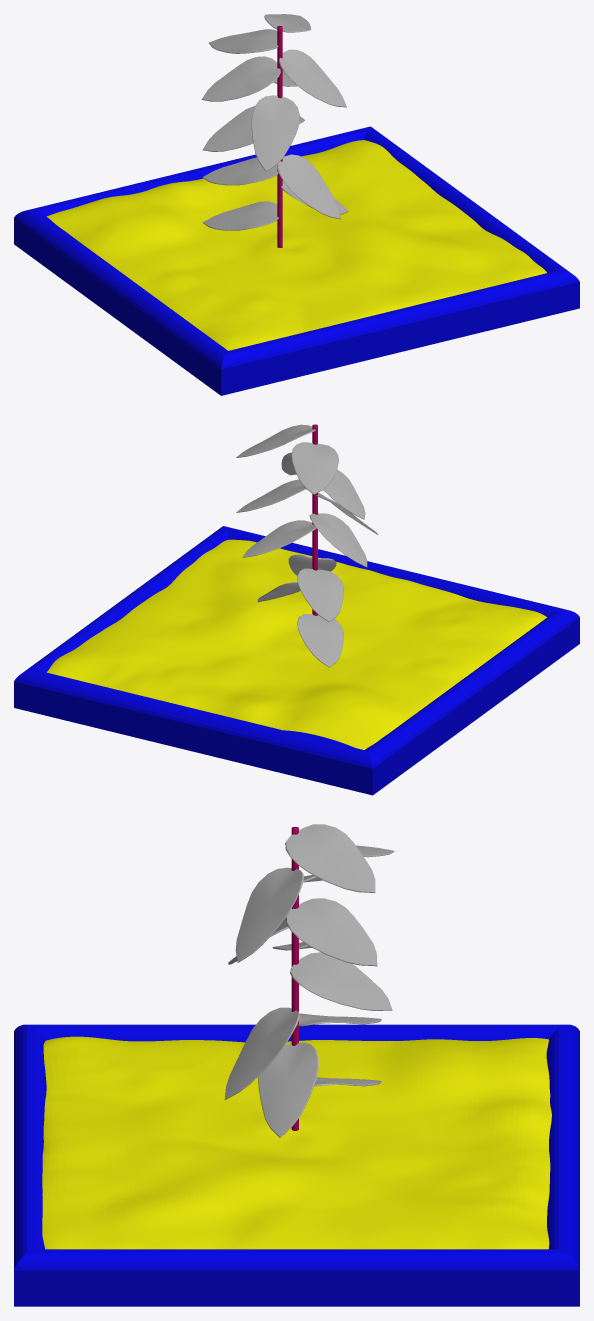
Rendered from Stage_2.fbx.
3 views of the same model, one above another, from view 1: azimuth 30°, elevation 25°; view 2: azimuth 150°, elevation 25°; view 3: azimuth 270°, elevation 25° (orthographic). The views are drawn at different scales.
Parts seen in each view (by area): view 1: Dirt1, Bed1, Leaf_7, Leaf_10, Leaf_11, Leaf_3, Leaf_12, Leaf_2, Leaf_9, Leaf_6, Pepper_Stem_Stage_2, Leaf_5; view 2: Dirt1, Bed1, Leaf_6, Leaf_9, Leaf_12, Leaf_2, Leaf_4, Leaf_11, Leaf_5, Leaf_8, Leaf_10, Pepper_Stem_Stage_2; view 3: Dirt1, Bed1, Leaf_5, Leaf_8, Leaf_1, Leaf_4, Leaf_3, Leaf_10, Pepper_Stem_Stage_2, Leaf_9.
Boxes of the visible parts, left/top/right/bottom form: Dirt1: left=46, top=140, right=546, bottom=350; Bed1: left=14, top=126, right=579, bottom=395; Leaf_7: left=251, top=95, right=299, bottom=171; Leaf_10: left=277, top=154, right=340, bottom=219; Leaf_11: left=201, top=56, right=280, bottom=101; Leaf_3: left=278, top=49, right=346, bottom=107; Leaf_12: left=202, top=201, right=278, bottom=230; Leaf_2: left=203, top=105, right=255, bottom=151; Leaf_9: left=202, top=157, right=278, bottom=185; Leaf_6: left=209, top=29, right=278, bottom=53; Pepper_Stem_Stage_2: left=277, top=26, right=282, bottom=247; Leaf_5: left=264, top=14, right=310, bottom=32; Dirt1: left=47, top=539, right=546, bottom=749; Bed1: left=14, top=526, right=579, bottom=795; Leaf_6: left=291, top=442, right=338, bottom=494; Leaf_9: left=297, top=568, right=343, bottom=622; Leaf_12: left=297, top=614, right=343, bottom=667; Leaf_2: left=309, top=513, right=367, bottom=567; Leaf_4: left=242, top=520, right=316, bottom=557; Leaf_11: left=323, top=469, right=365, bottom=519; Leaf_5: left=236, top=424, right=315, bottom=457; Leaf_8: left=236, top=479, right=306, bottom=512; Leaf_10: left=288, top=554, right=336, bottom=575; Pepper_Stem_Stage_2: left=312, top=424, right=317, bottom=615; Dirt1: left=42, top=1036, right=551, bottom=1249; Bed1: left=14, top=1024, right=579, bottom=1306; Leaf_5: left=285, top=824, right=375, bottom=892; Leaf_8: left=286, top=898, right=377, bottom=966; Leaf_1: left=258, top=1042, right=318, bottom=1137; Leaf_4: left=290, top=952, right=392, bottom=1010; Leaf_3: left=235, top=867, right=303, bottom=962; Leaf_10: left=224, top=1007, right=299, bottom=1099; Pepper_Stem_Stage_2: left=291, top=827, right=298, bottom=1130; Leaf_9: left=298, top=1013, right=381, bottom=1026.
Bounding box in the file's own units: 4.24 × 2.88 × 4.24.
